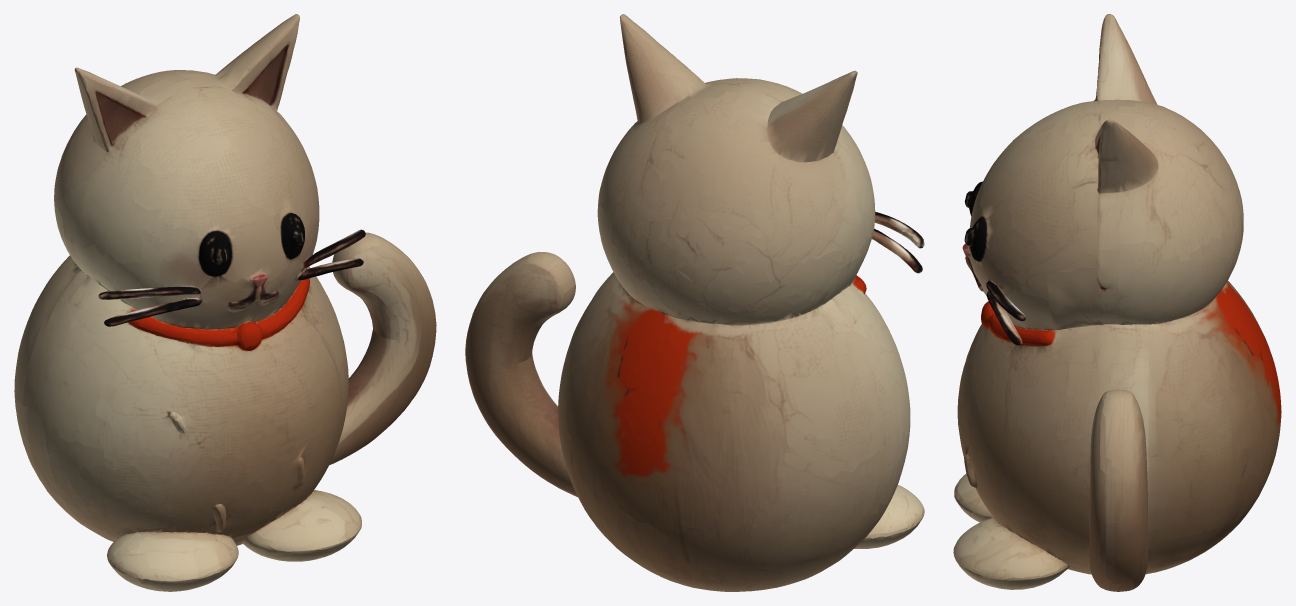
The picture shows the model from 3 angles, left to right: view 1: azimuth 30°, elevation 25°; view 2: azimuth 150°, elevation 25°; view 3: azimuth 270°, elevation 25°; orthographic projection. The views are drawn at different scales.
Visible parts, largest first — view 1: world; view 2: world; view 3: world.
Part boxes in pixels (x1=…): world: x1=14, y1=14, x2=436, y2=591; world: x1=465, y1=14, x2=924, y2=591; world: x1=953, y1=14, x2=1281, y2=591.
Size of the model in its own units: 0.1249 by 0.15 by 0.0907.
1 material, 1 textured.
